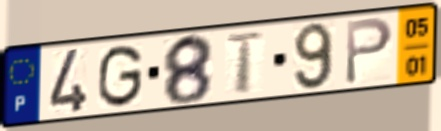4: (46, 46, 90, 116)
8: (160, 31, 216, 107)
9: (290, 20, 338, 92)
G: (95, 42, 146, 111)
P: (343, 15, 396, 87)
T: (223, 29, 268, 96)
